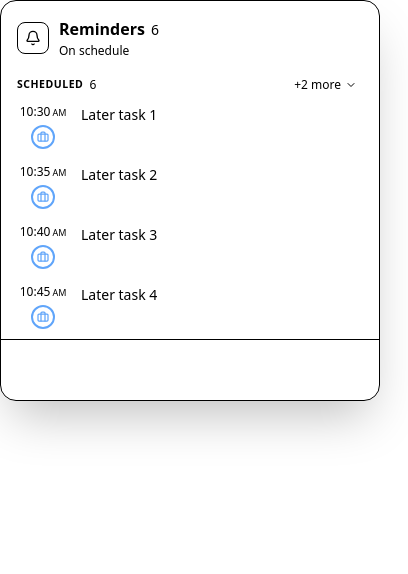
it: AgendaReminderPanel › caps a long Scheduled group at GROUP_LIMIT and reveals the rest via the show-more toggle
The image size is (408, 574).
expect the text "Later task 1" is shown: met, box left=81, top=105, right=157, bottom=124
expect the text "Later task 4" is shown: met, box left=81, top=285, right=157, bottom=304
Click the button "+2 more" at (326, 85), box left=288, top=75, right=363, bottom=95
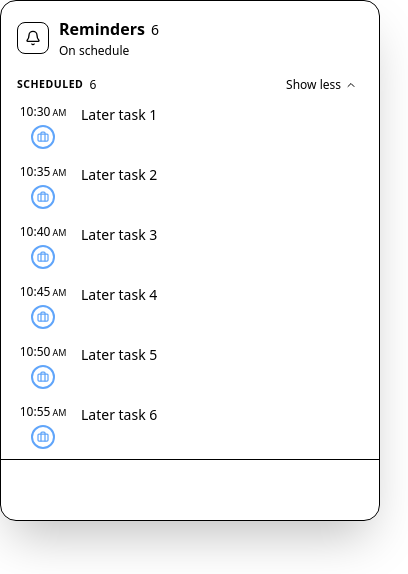
expect the text "Later task 5" is shown: met, box left=81, top=345, right=157, bottom=364
expect the text "Later task 6" is shown: met, box left=81, top=405, right=157, bottom=424
